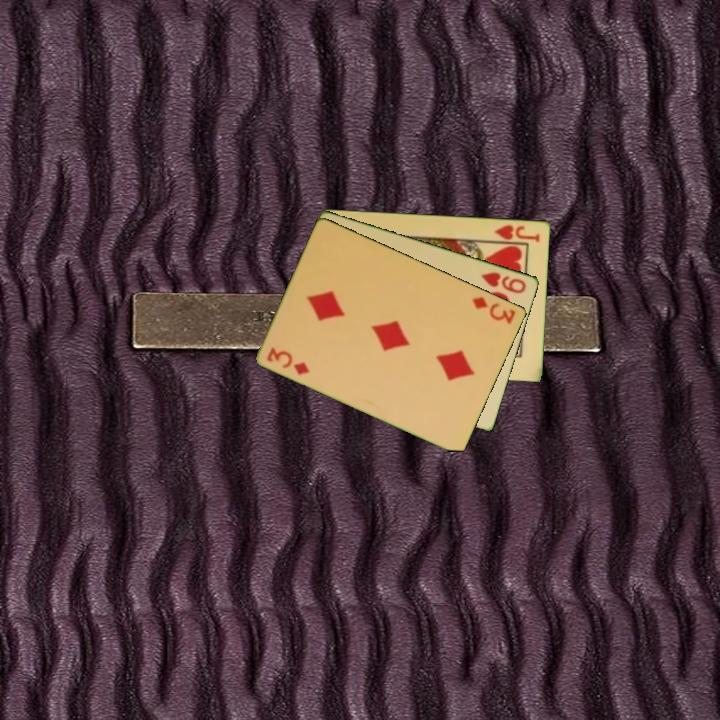3d: (264, 343, 313, 378), (469, 293, 519, 327)
9h: (477, 268, 529, 296)
Jh: (487, 221, 543, 245)
